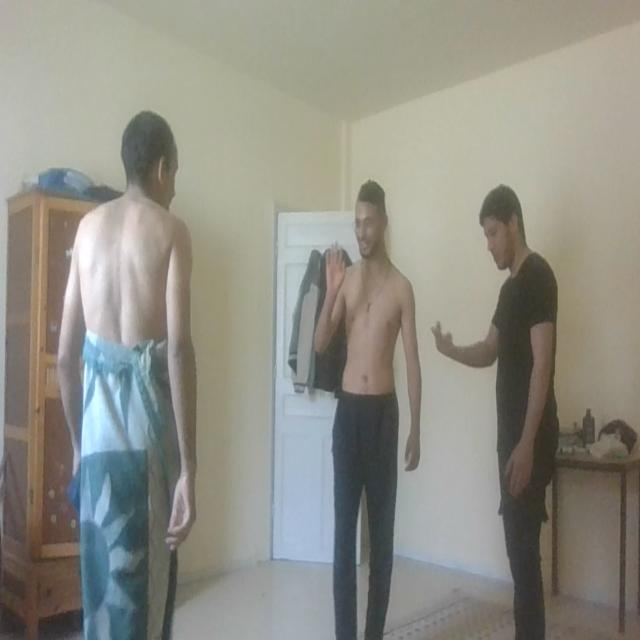non_violence: (73, 103, 219, 640), (438, 154, 580, 640), (294, 154, 426, 640)
